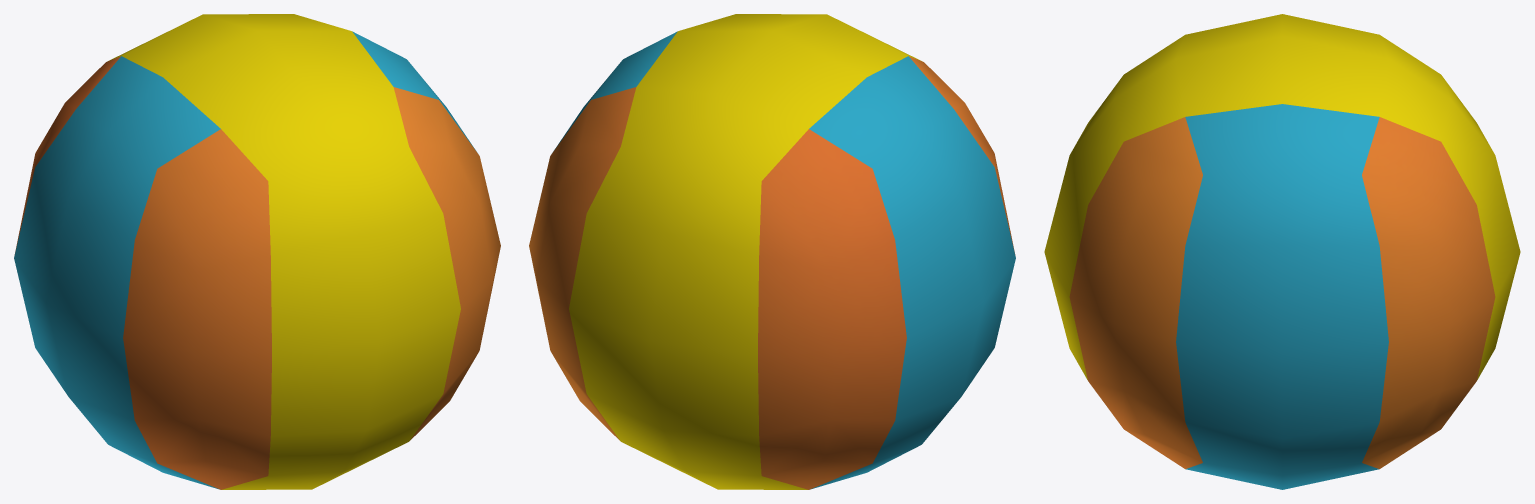
Rendered from ENV_VolleyBall.fbx.
3 renders of one model, left to right at view 1: azimuth 30°, elevation 25°; view 2: azimuth 150°, elevation 25°; view 3: azimuth 270°, elevation 25°, orthographic. The views are drawn at different scales.
Visible parts, largest first — view 1: ENV_VolleyBall; view 2: ENV_VolleyBall; view 3: ENV_VolleyBall.
Boxes of the visible parts, box(x1,y1,x2,y2) form: ENV_VolleyBall: box(14, 14, 500, 489); ENV_VolleyBall: box(529, 14, 1015, 489); ENV_VolleyBall: box(1044, 14, 1520, 489).
Bounding box in the file's own units: 0.4367 × 0.4367 × 0.4367.
